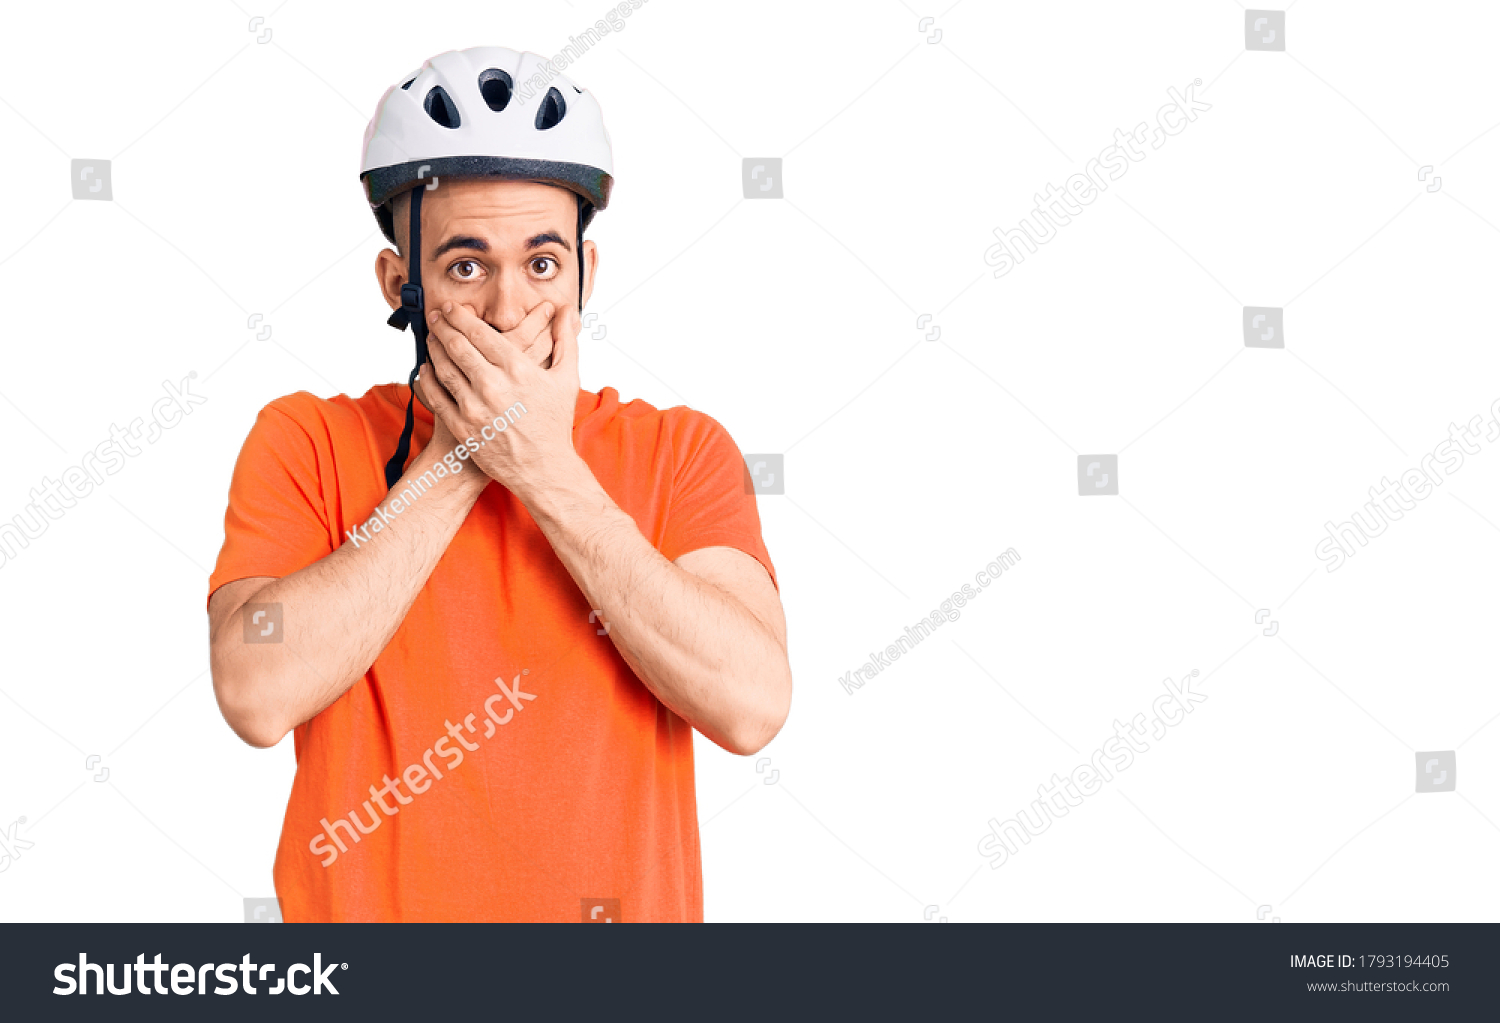helmet: (358, 46, 614, 411)
